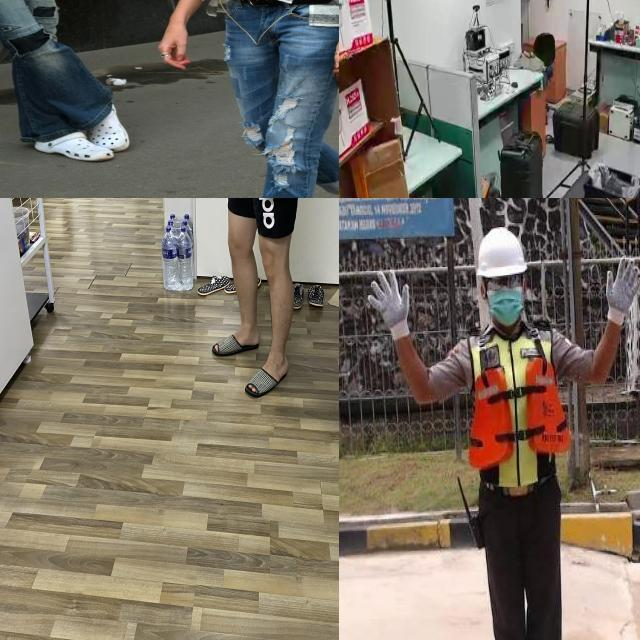Sandals: (244, 346, 290, 400), (212, 317, 262, 359)
head_helmet: (474, 226, 529, 281)
person: (340, 211, 640, 640)
vest: (467, 328, 572, 498)
